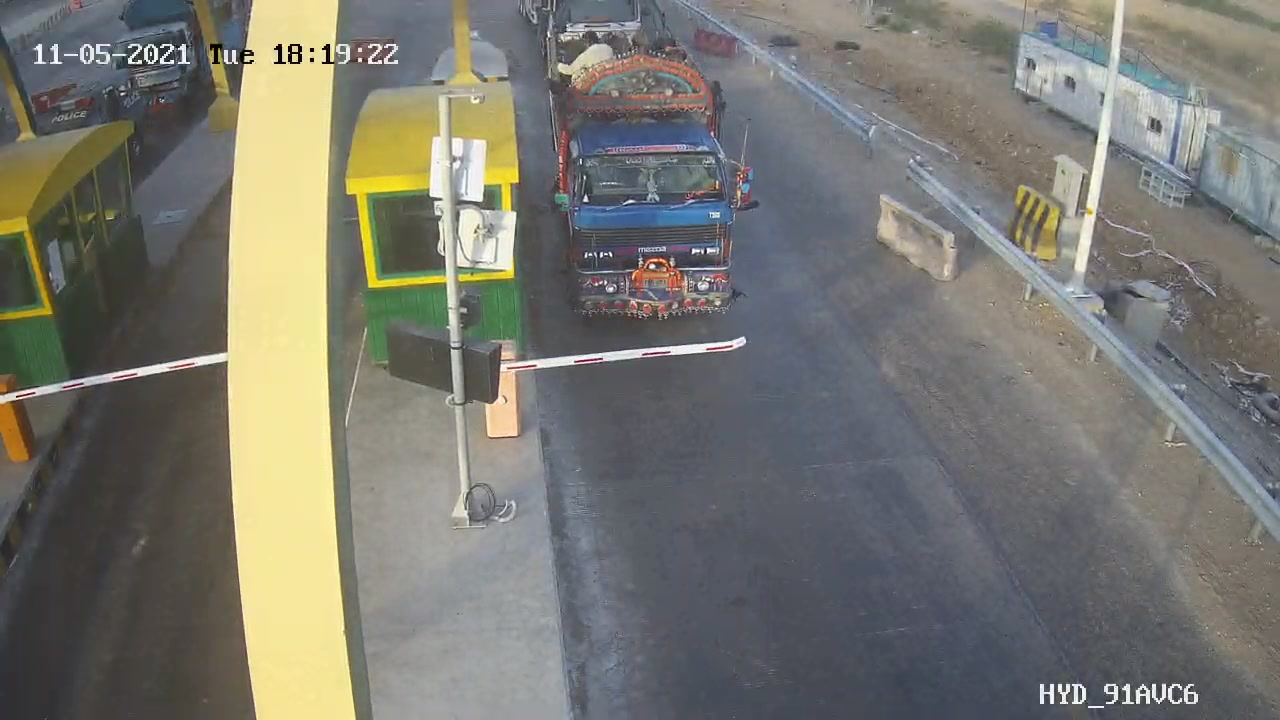F5: (543, 27, 774, 334)
